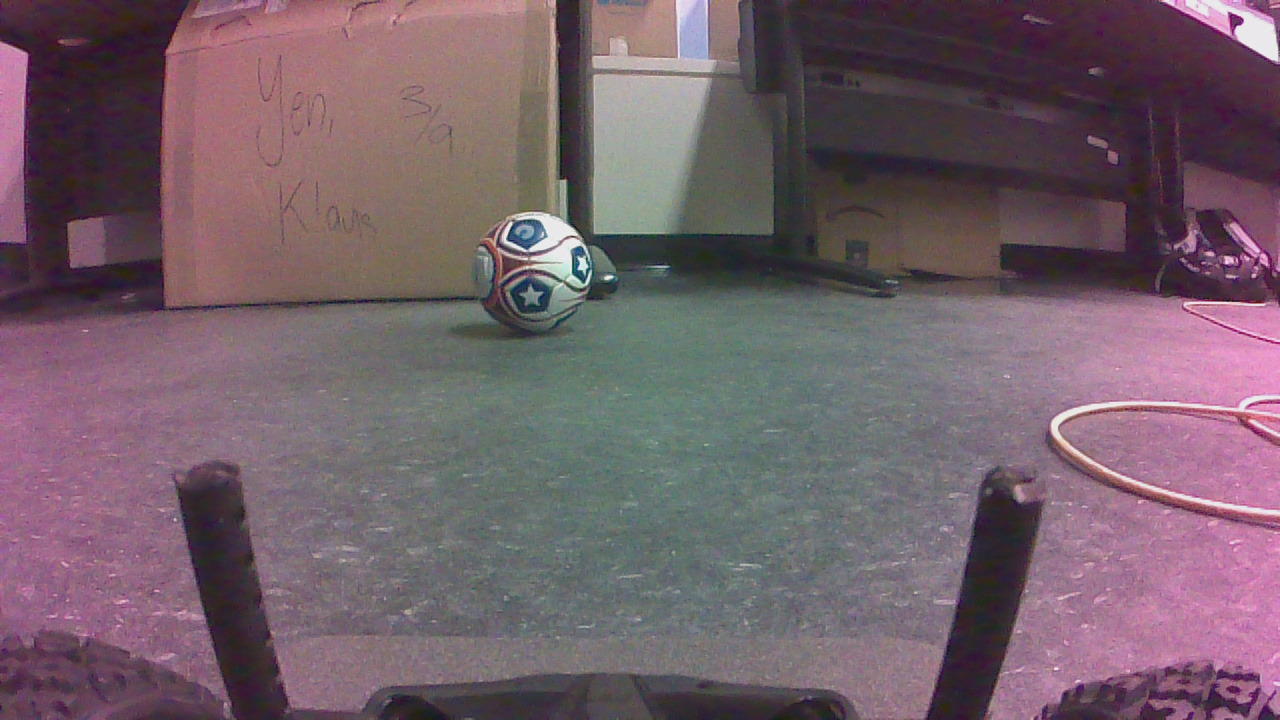ball: (464, 214, 596, 335)
